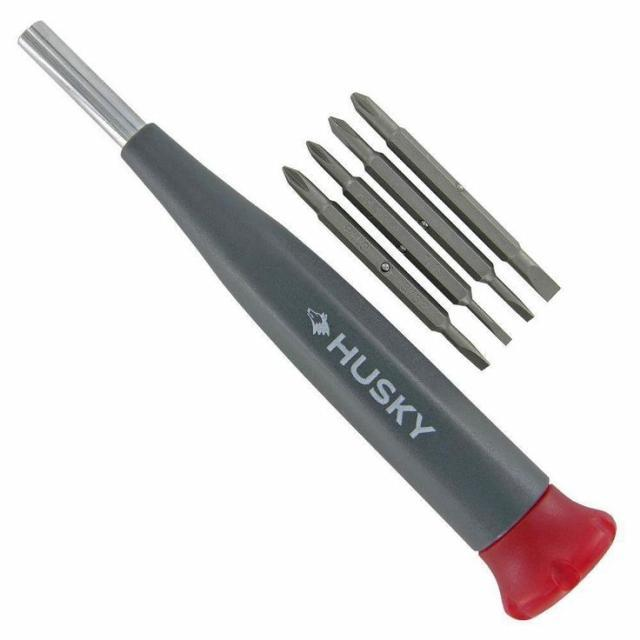screwdriver: (11, 14, 626, 626)
